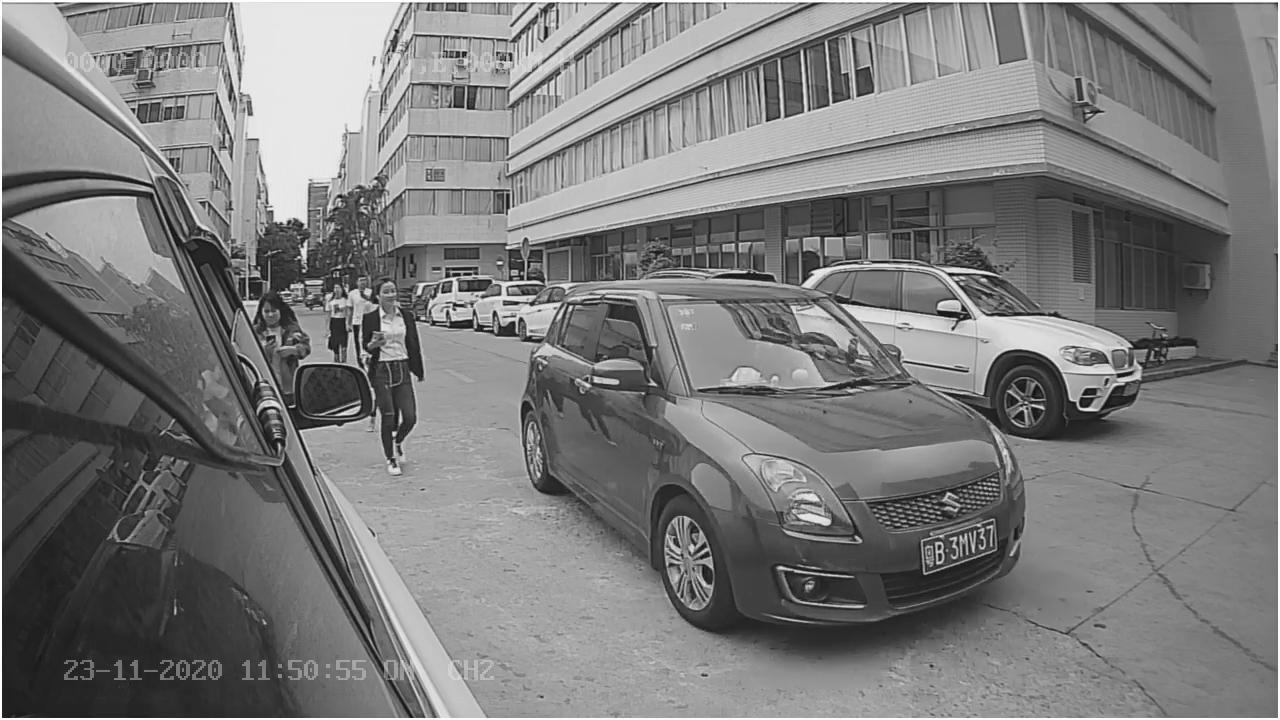person: (361, 276, 429, 358)
